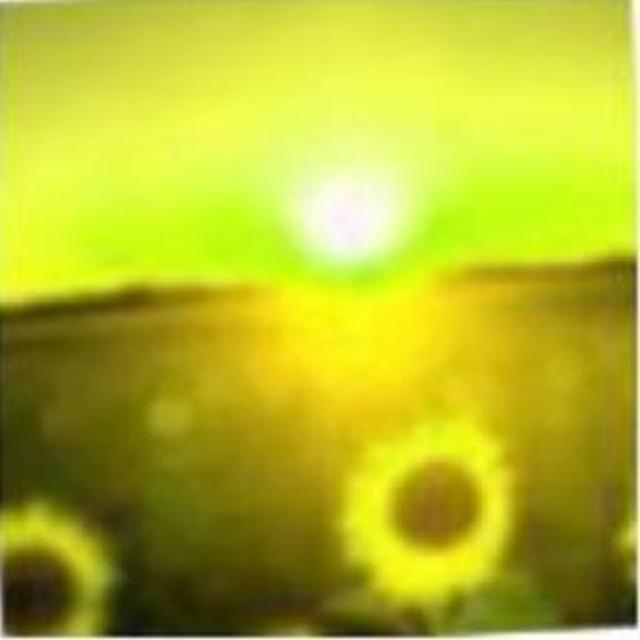sunflower: (338, 426, 514, 597), (1, 501, 118, 636)
